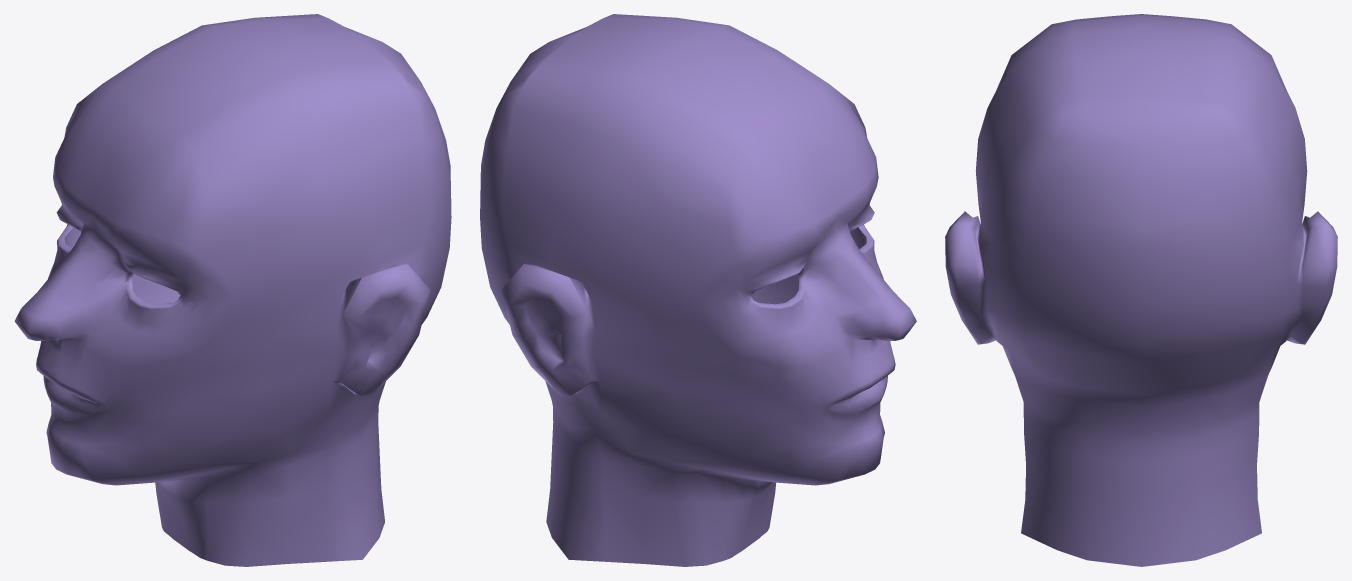
Rendered from D_Head.fbx.
3 views of the same model, side by side, from view 1: azimuth 30°, elevation 25°; view 2: azimuth 150°, elevation 25°; view 3: azimuth 270°, elevation 25° (orthographic).
Visible parts, largest first — view 1: D_Head; view 2: D_Head; view 3: D_Head.
Part boxes in pixels (x1,y1,x2,y2): D_Head: (14, 14, 451, 566); D_Head: (480, 14, 916, 566); D_Head: (945, 14, 1337, 566).
Bounding box in the file's own units: 41.33 × 46.08 × 34.22.
